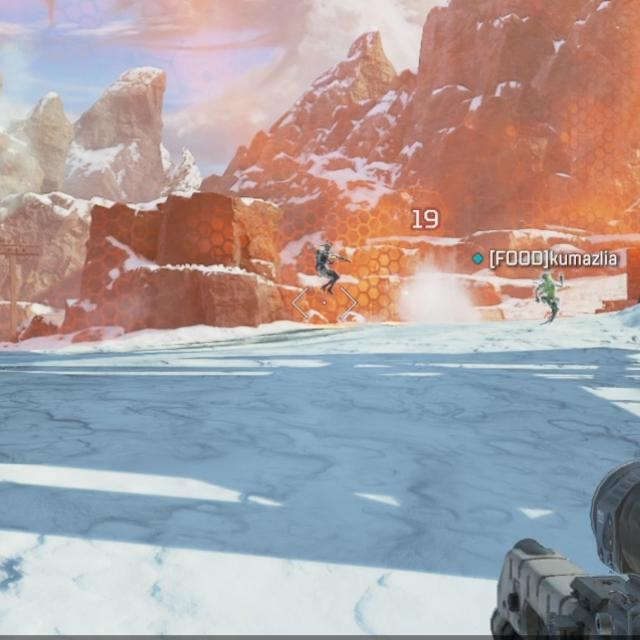avatar: (532, 271, 565, 321), (313, 239, 341, 296)
